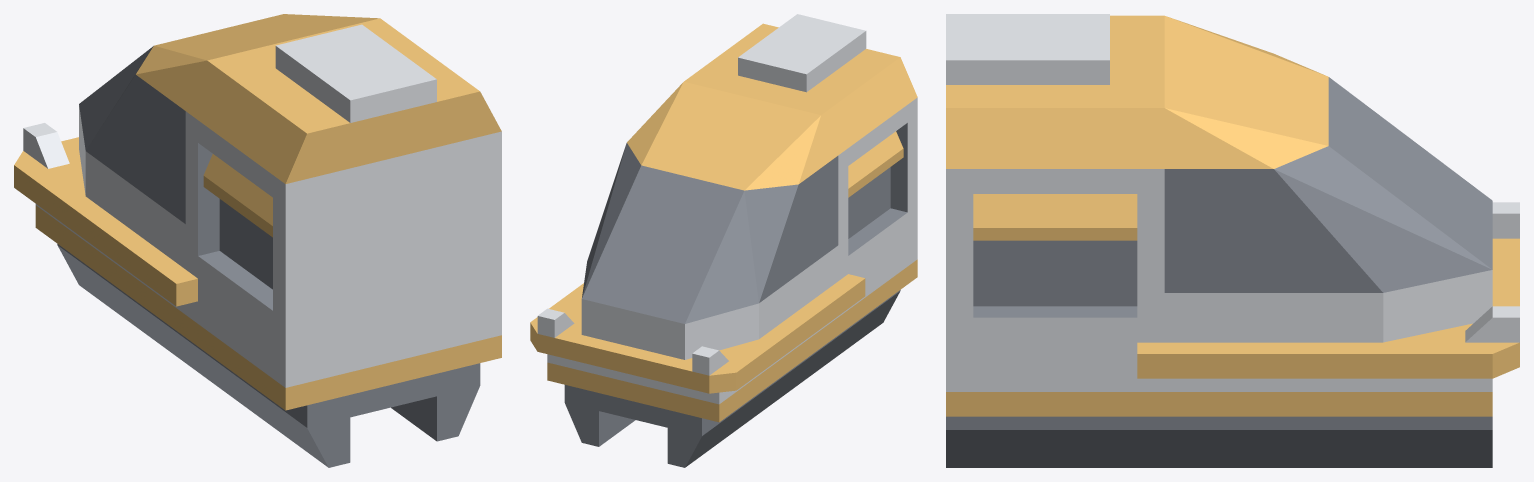
Rendered from kenney_monorail.glb.
3 renders of one model, left to right at view 1: azimuth 30°, elevation 25°; view 2: azimuth 150°, elevation 25°; view 3: azimuth 270°, elevation 25°, orthographic. The views are drawn at different scales.
Visible parts, largest first — view 1: monorail_trainFront; view 2: monorail_trainFront; view 3: monorail_trainFront.
Boxes of the visible parts, <box> form: monorail_trainFront: <box>14,14,501,467</box>; monorail_trainFront: <box>530,14,917,467</box>; monorail_trainFront: <box>946,14,1519,467</box>.
Bounding box in the file's own units: 0.6 × 0.8 × 1.05.
